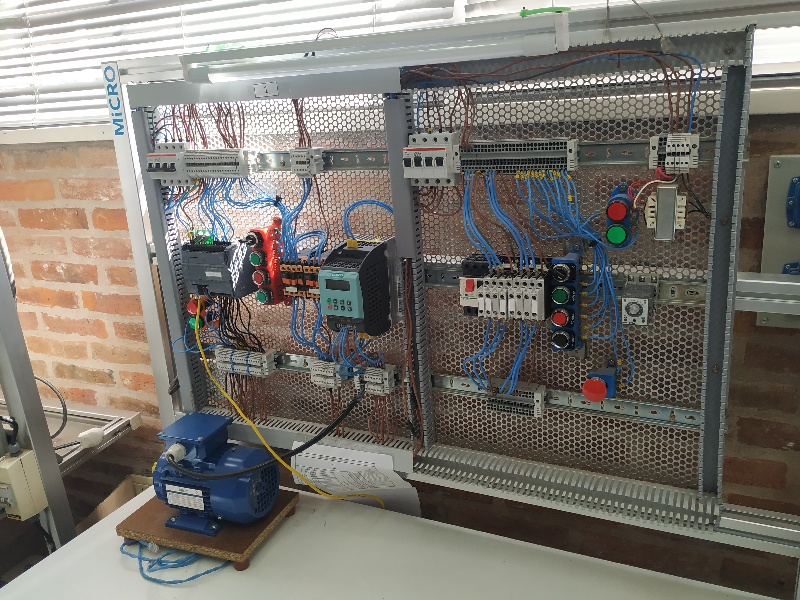Tablero 1: (139, 72, 729, 500)
